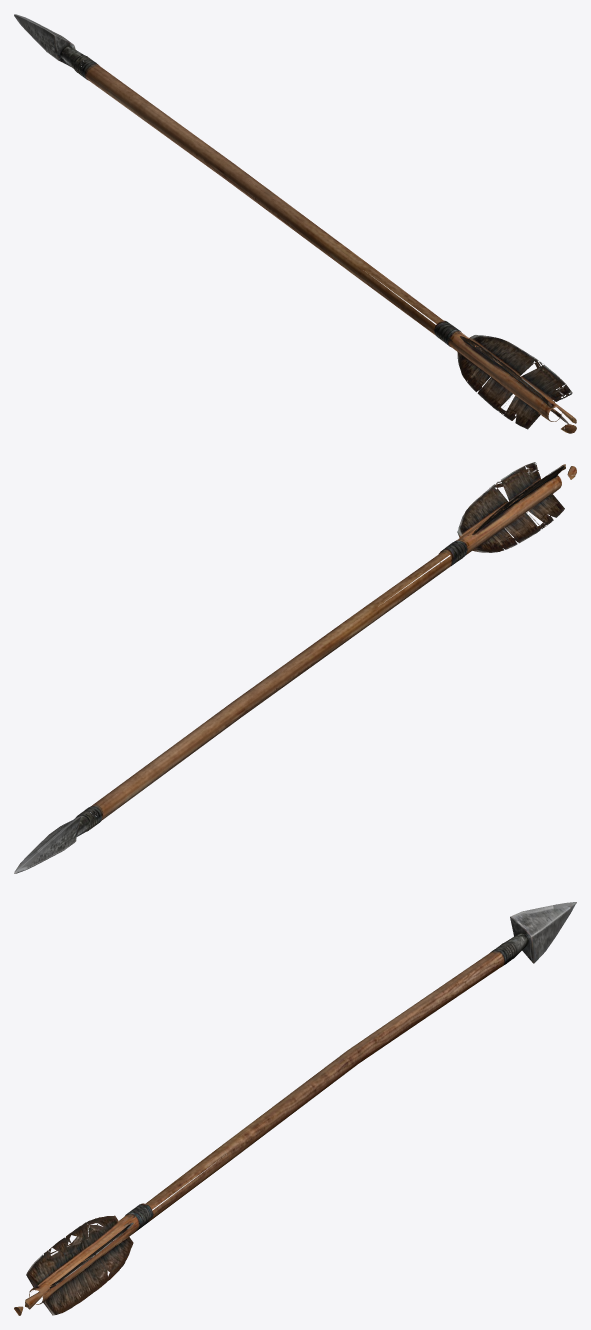
The model's file is arrow.glb.
3 views of the same model, one above another, from view 1: azimuth 30°, elevation 25°; view 2: azimuth 150°, elevation 25°; view 3: azimuth 330°, elevation 25° (orthographic).
Parts seen in each view (by area): view 1: tripo_3b339282_2e48_4533_8440_418b68bd284d; view 2: tripo_3b339282_2e48_4533_8440_418b68bd284d; view 3: tripo_3b339282_2e48_4533_8440_418b68bd284d.
Part boxes in pixels (box(x1,y1,x2,y2)): tripo_3b339282_2e48_4533_8440_418b68bd284d: box(14, 14, 576, 433); tripo_3b339282_2e48_4533_8440_418b68bd284d: box(14, 462, 576, 873); tripo_3b339282_2e48_4533_8440_418b68bd284d: box(14, 902, 576, 1315).
Bounding box in the file's own units: 0.034 × 0.0334 × 0.7501.
Materials: 1 (1 with a texture image).
